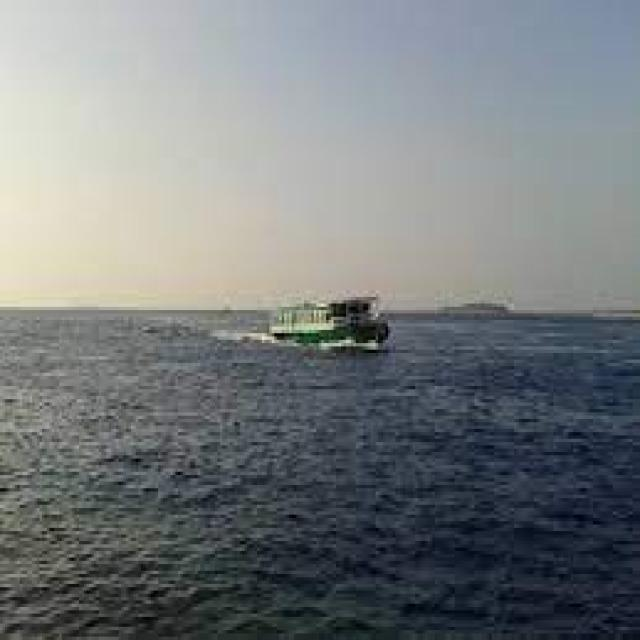houseboat: (256, 285, 401, 371)
